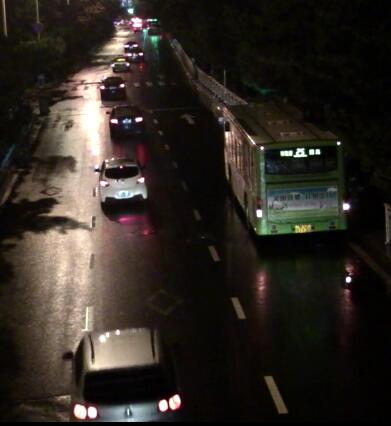bus: (214, 98, 351, 238)
car: (61, 325, 184, 421), (93, 154, 149, 208), (105, 105, 147, 139), (97, 76, 126, 100), (109, 56, 128, 71), (124, 47, 141, 62), (123, 39, 141, 49)
